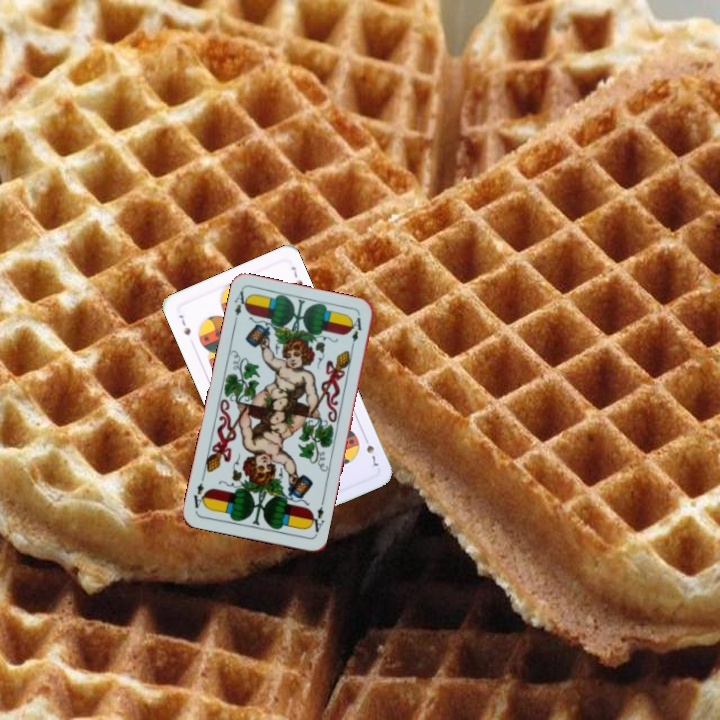EA: (230, 287, 252, 327), (305, 497, 327, 535)
S7: (360, 432, 381, 471), (174, 310, 193, 338)
